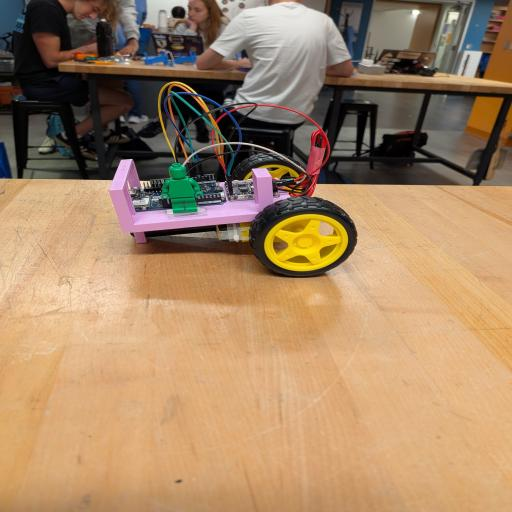Minifig: (161, 163, 203, 214)
